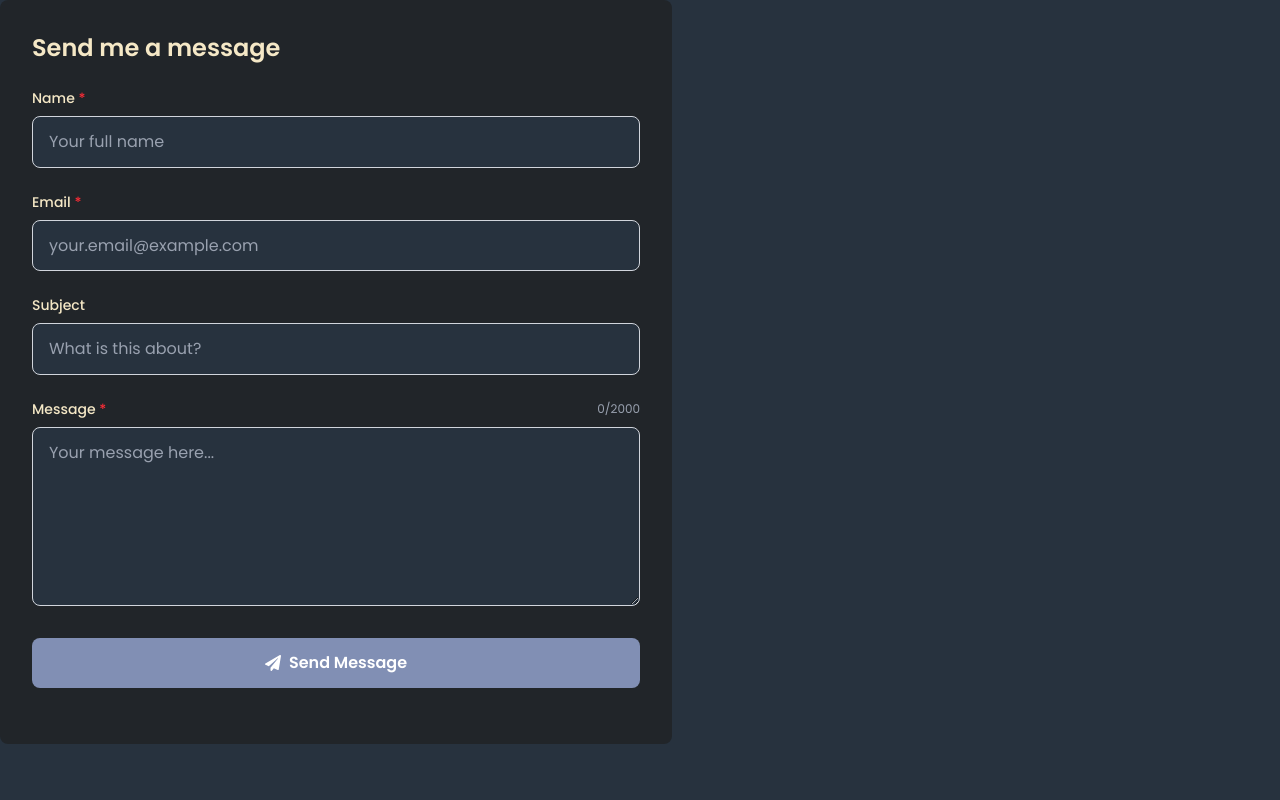
Test: ContactForm — validation › shows required error for empty name on submit
Click the button "Send Message": {"x": 336, "y": 663} [32,638,640,688]
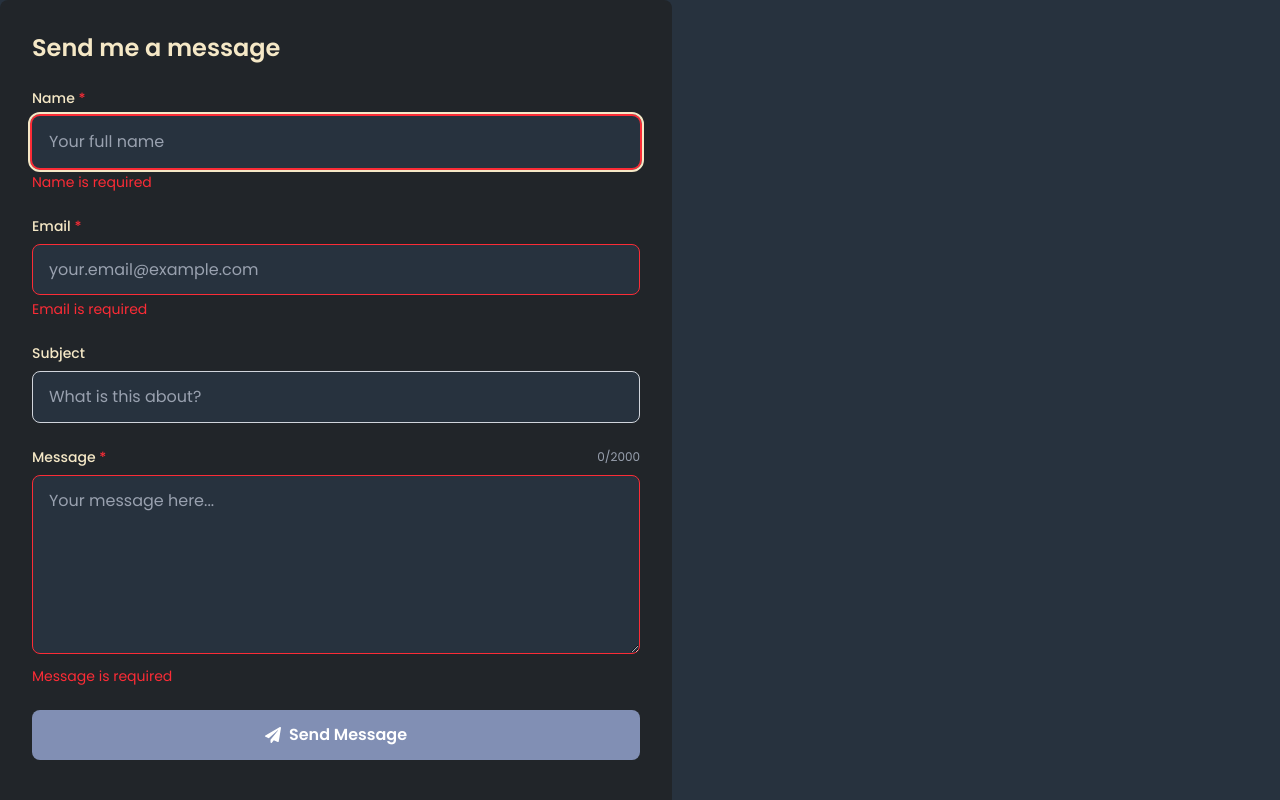
Now the text "Name is required" is shown, box [32,172,152,192]
